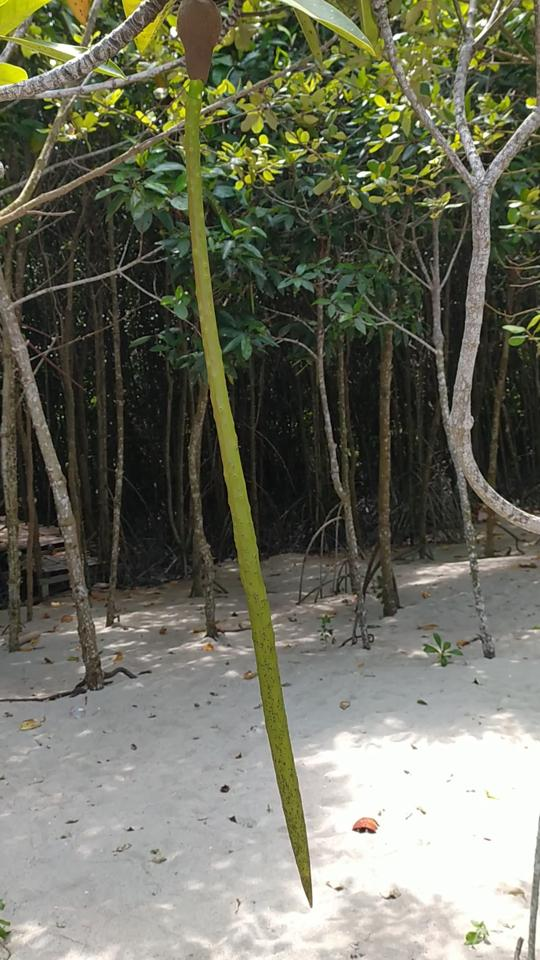mentah: (156, 1, 327, 918)
